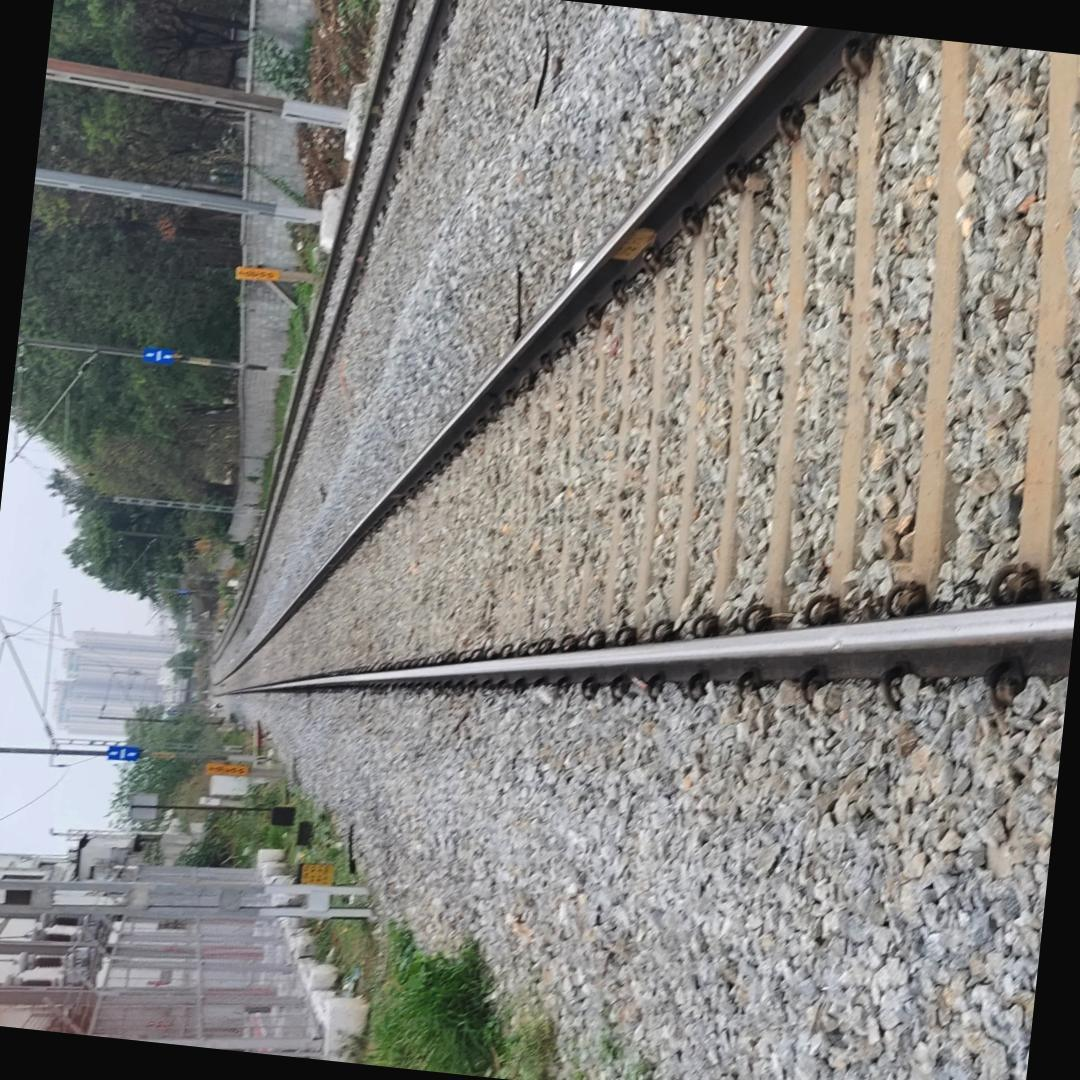standing: (207, 702, 225, 710)
track: (198, 21, 1080, 712)
